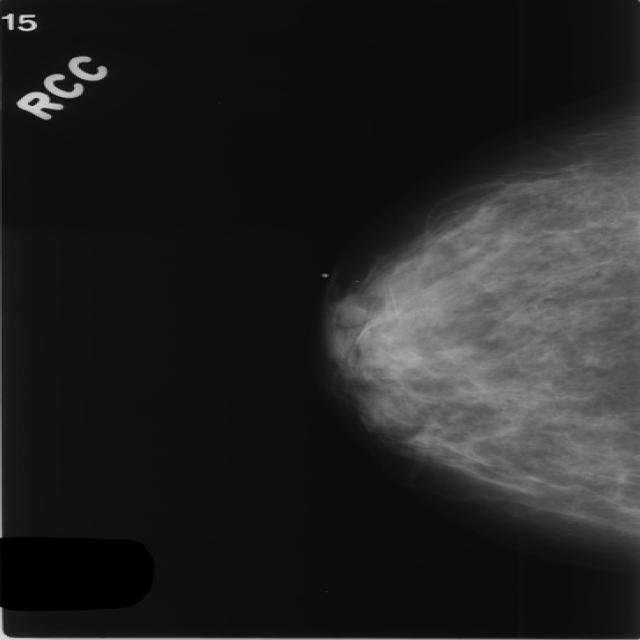tumour: (336, 304, 366, 326)
